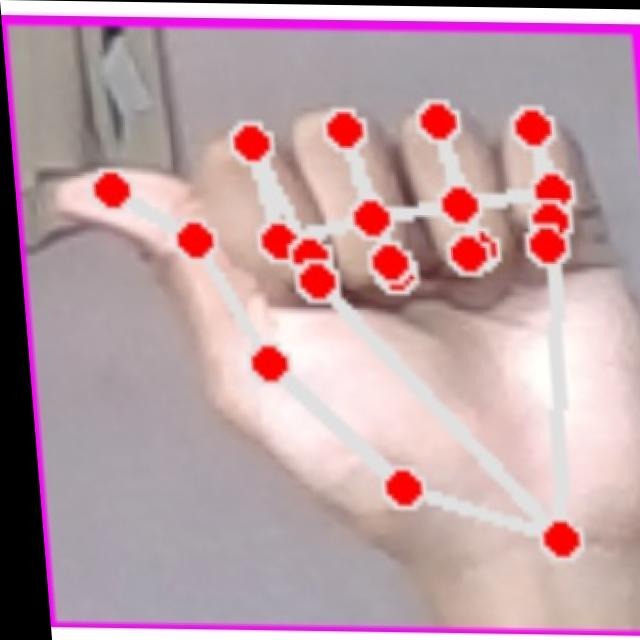A: (43, 55, 640, 592)
